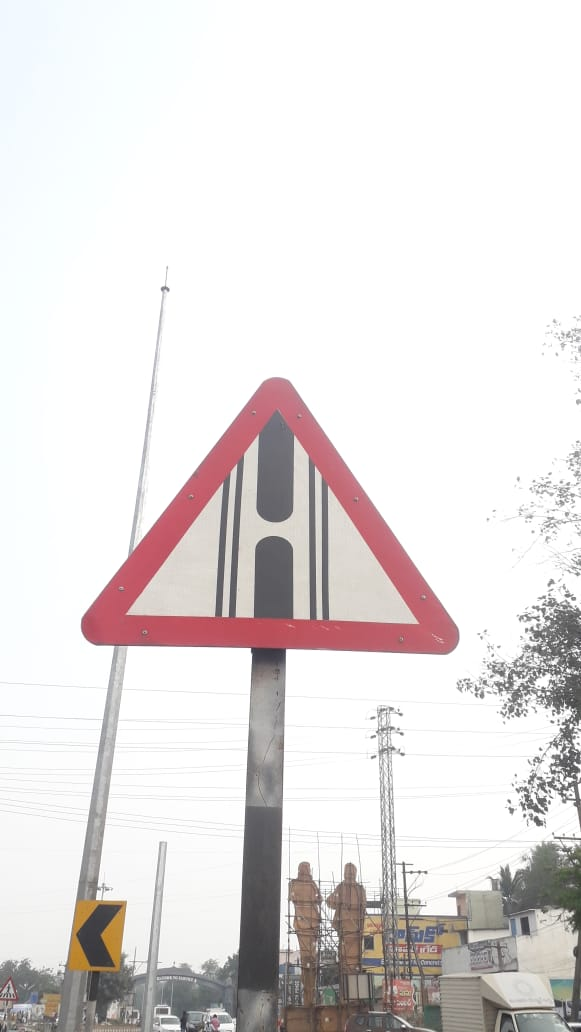highway go straight: (67, 347, 476, 679)
